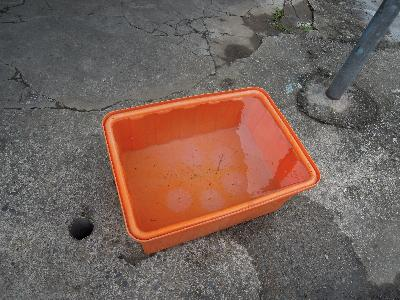box: (100, 86, 322, 255)
